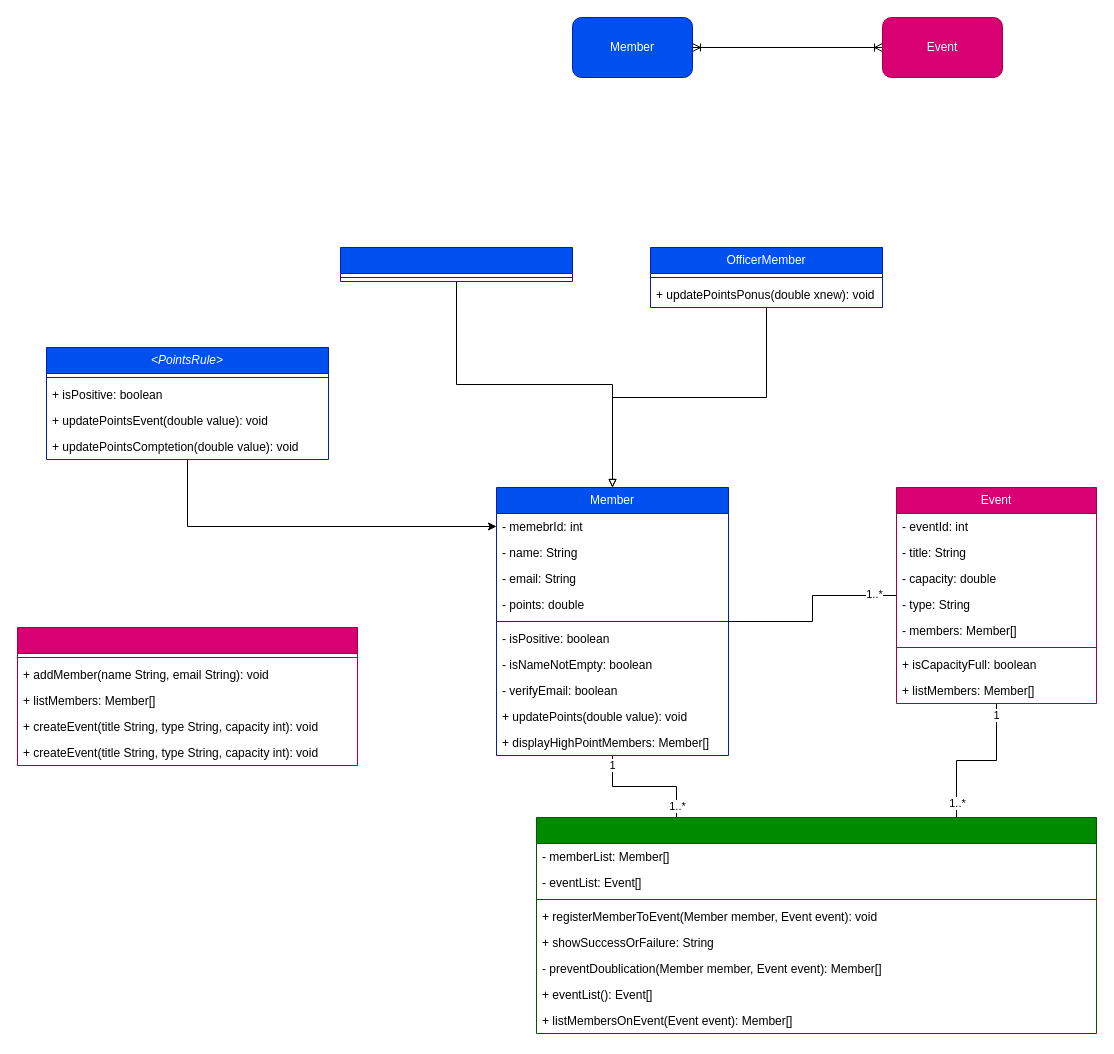
Image size: 1114x1054. Some labels were removed from this diagram. The box of each missing label's shape, as (x1, y1, x2, y2) in pixels:
Menu: (16, 626, 358, 766)
Registration: (536, 816, 1096, 1034)
RegularMember: (340, 246, 572, 282)
